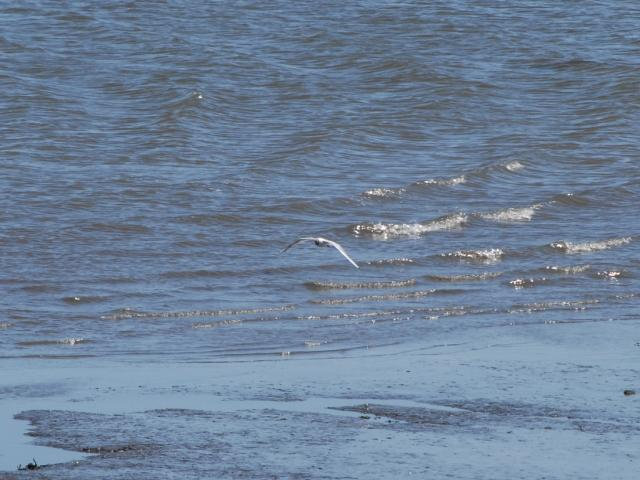Bird: (280, 235, 358, 275)
